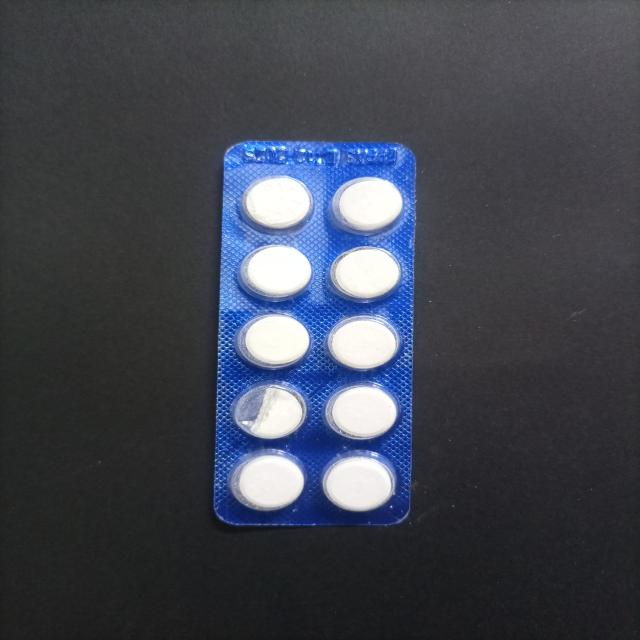defect: (228, 379, 312, 444)
